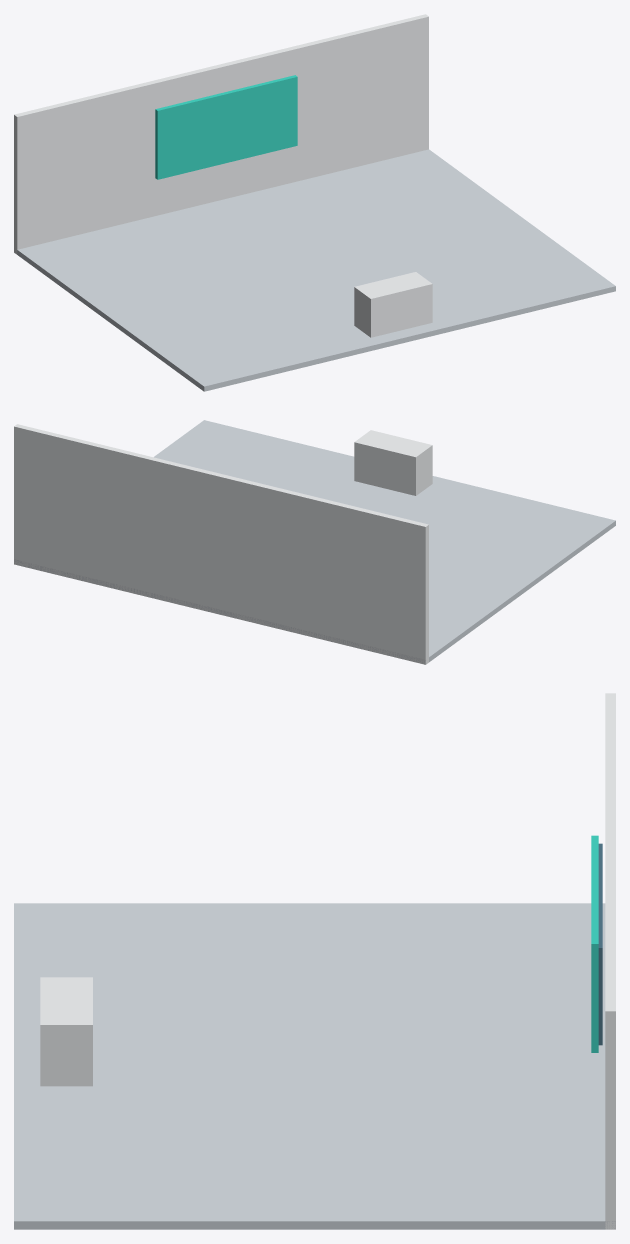
3 views of the same model, one above another, from view 1: azimuth 30°, elevation 25°; view 2: azimuth 150°, elevation 25°; view 3: azimuth 270°, elevation 25° (orthographic). The views are drawn at different scales.
Visible parts, largest first — view 1: Exhibition Booth Concept; view 2: Exhibition Booth Concept; view 3: Exhibition Booth Concept.
Part boxes in pixels (x1=…): Exhibition Booth Concept: x1=14, y1=14, x2=615, y2=391; Exhibition Booth Concept: x1=14, y1=420, x2=615, y2=664; Exhibition Booth Concept: x1=14, y1=693, x2=615, y2=1229.
Size of the model in its own units: 10 by 3.2 by 8.
